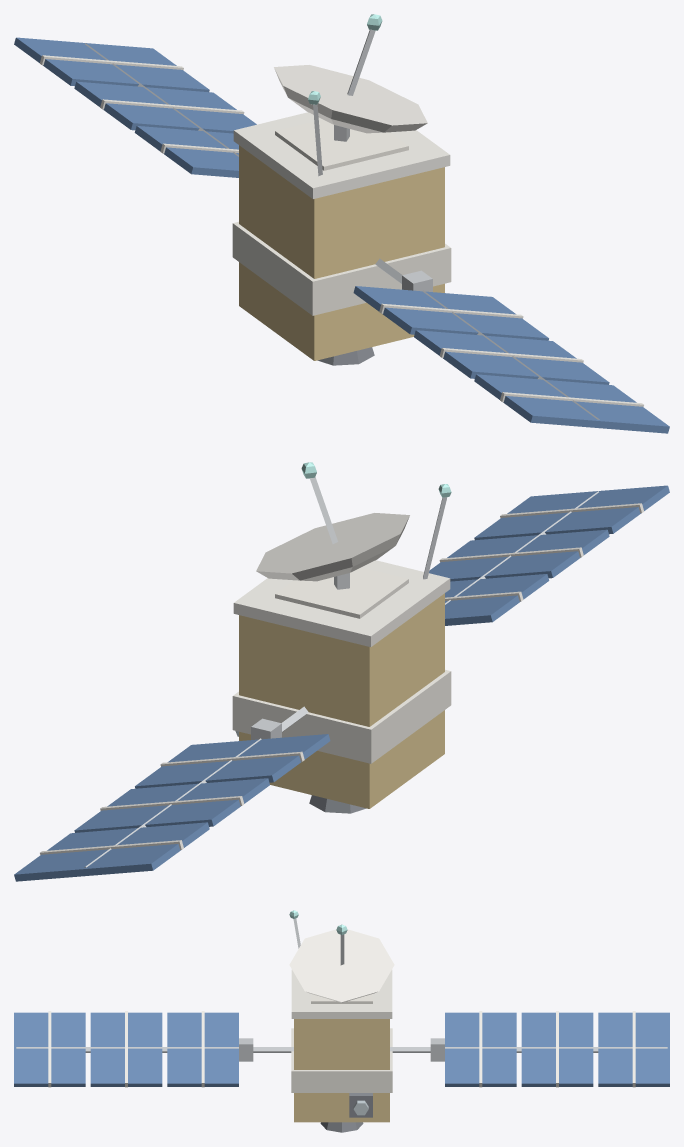
The model's file is satellite.glb.
3 views of the same model, one above another, from view 1: azimuth 30°, elevation 25°; view 2: azimuth 150°, elevation 25°; view 3: azimuth 270°, elevation 25° (orthographic). The views are drawn at different scales.
Parts seen in each view (by area): view 1: satellite; view 2: satellite; view 3: satellite.
Part boxes in pixels (<box>): satellite: <box>14,14,669,433</box>; satellite: <box>14,462,669,881</box>; satellite: <box>14,910,669,1132</box>.
Size of the model in its own units: 0.1766 by 0.3516 by 0.9995.
